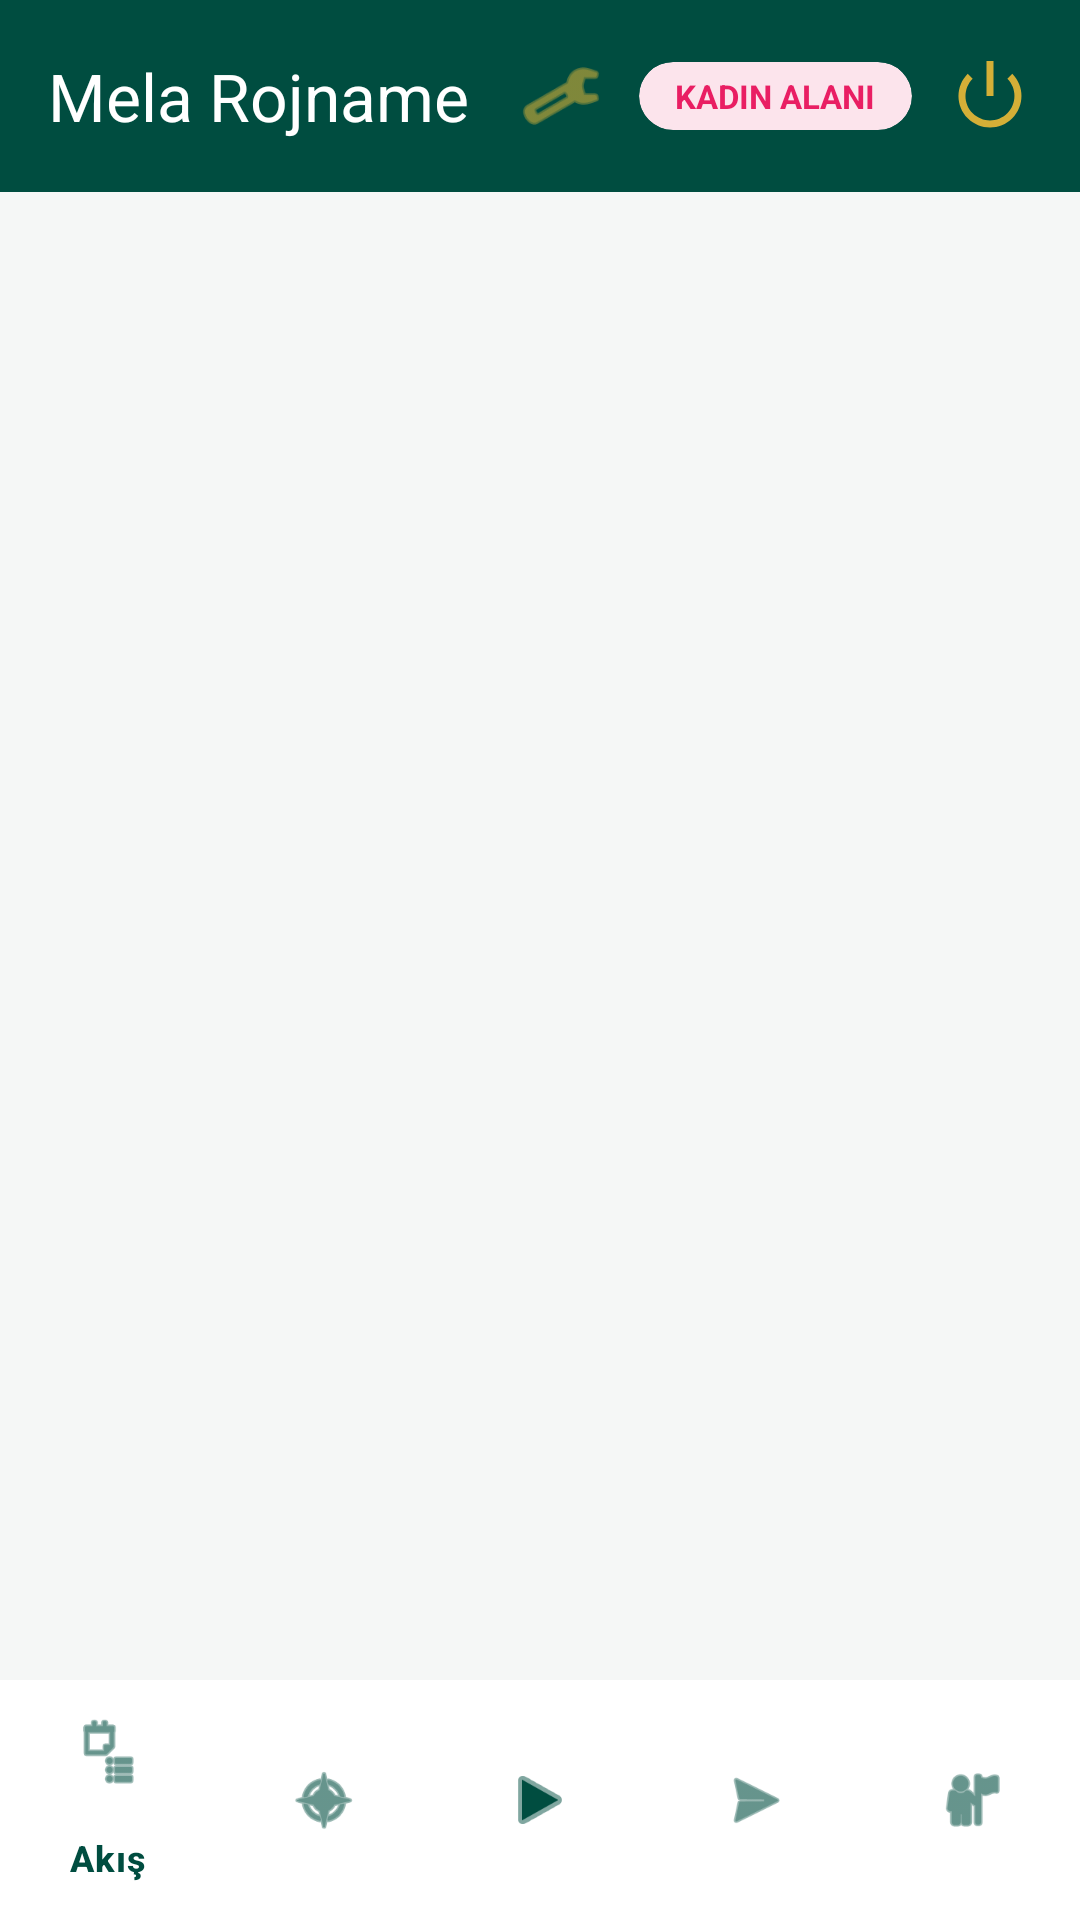

Locate icon controls on the screen. Image size 1080x1920, boxes as detection(x1, y1, x2, y2).
Çıkış: detection(958, 61, 1022, 128)
